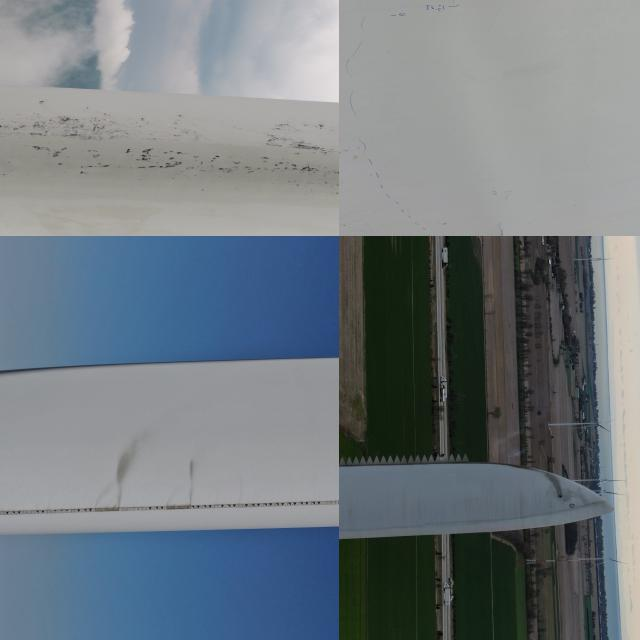damage: (0, 99, 338, 187), (462, 194, 532, 235), (118, 502, 140, 514), (94, 504, 120, 514), (166, 502, 192, 512), (167, 502, 191, 510), (554, 493, 564, 499)
